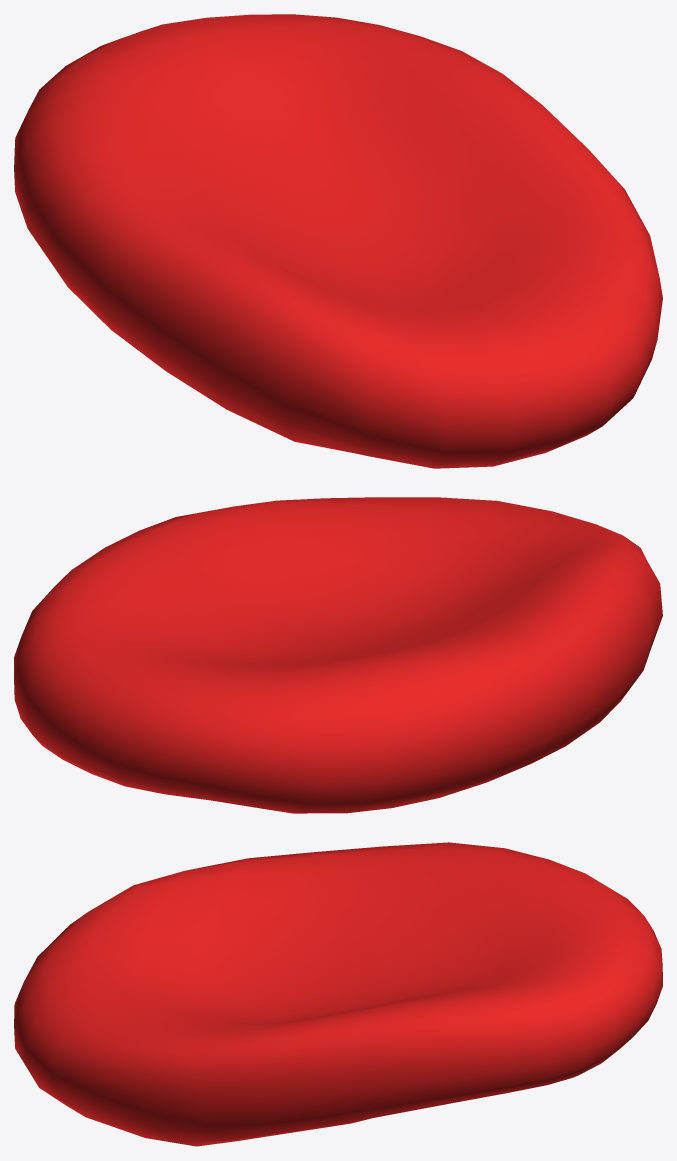
File: Alyuvar01.fbx
3 views of the same model, one above another, from view 1: azimuth 30°, elevation 25°; view 2: azimuth 150°, elevation 25°; view 3: azimuth 270°, elevation 25° (orthographic). The views are drawn at different scales.
Parts seen in each view (by area): view 1: Alyuvar 1; view 2: Alyuvar 1; view 3: Alyuvar 1.
Boxes of the visible parts, <box> form: Alyuvar 1: <box>14,14,662,468</box>; Alyuvar 1: <box>14,497,662,813</box>; Alyuvar 1: <box>14,842,662,1146</box>.
Size of the model in its own units: 158 by 61.73 by 223.
